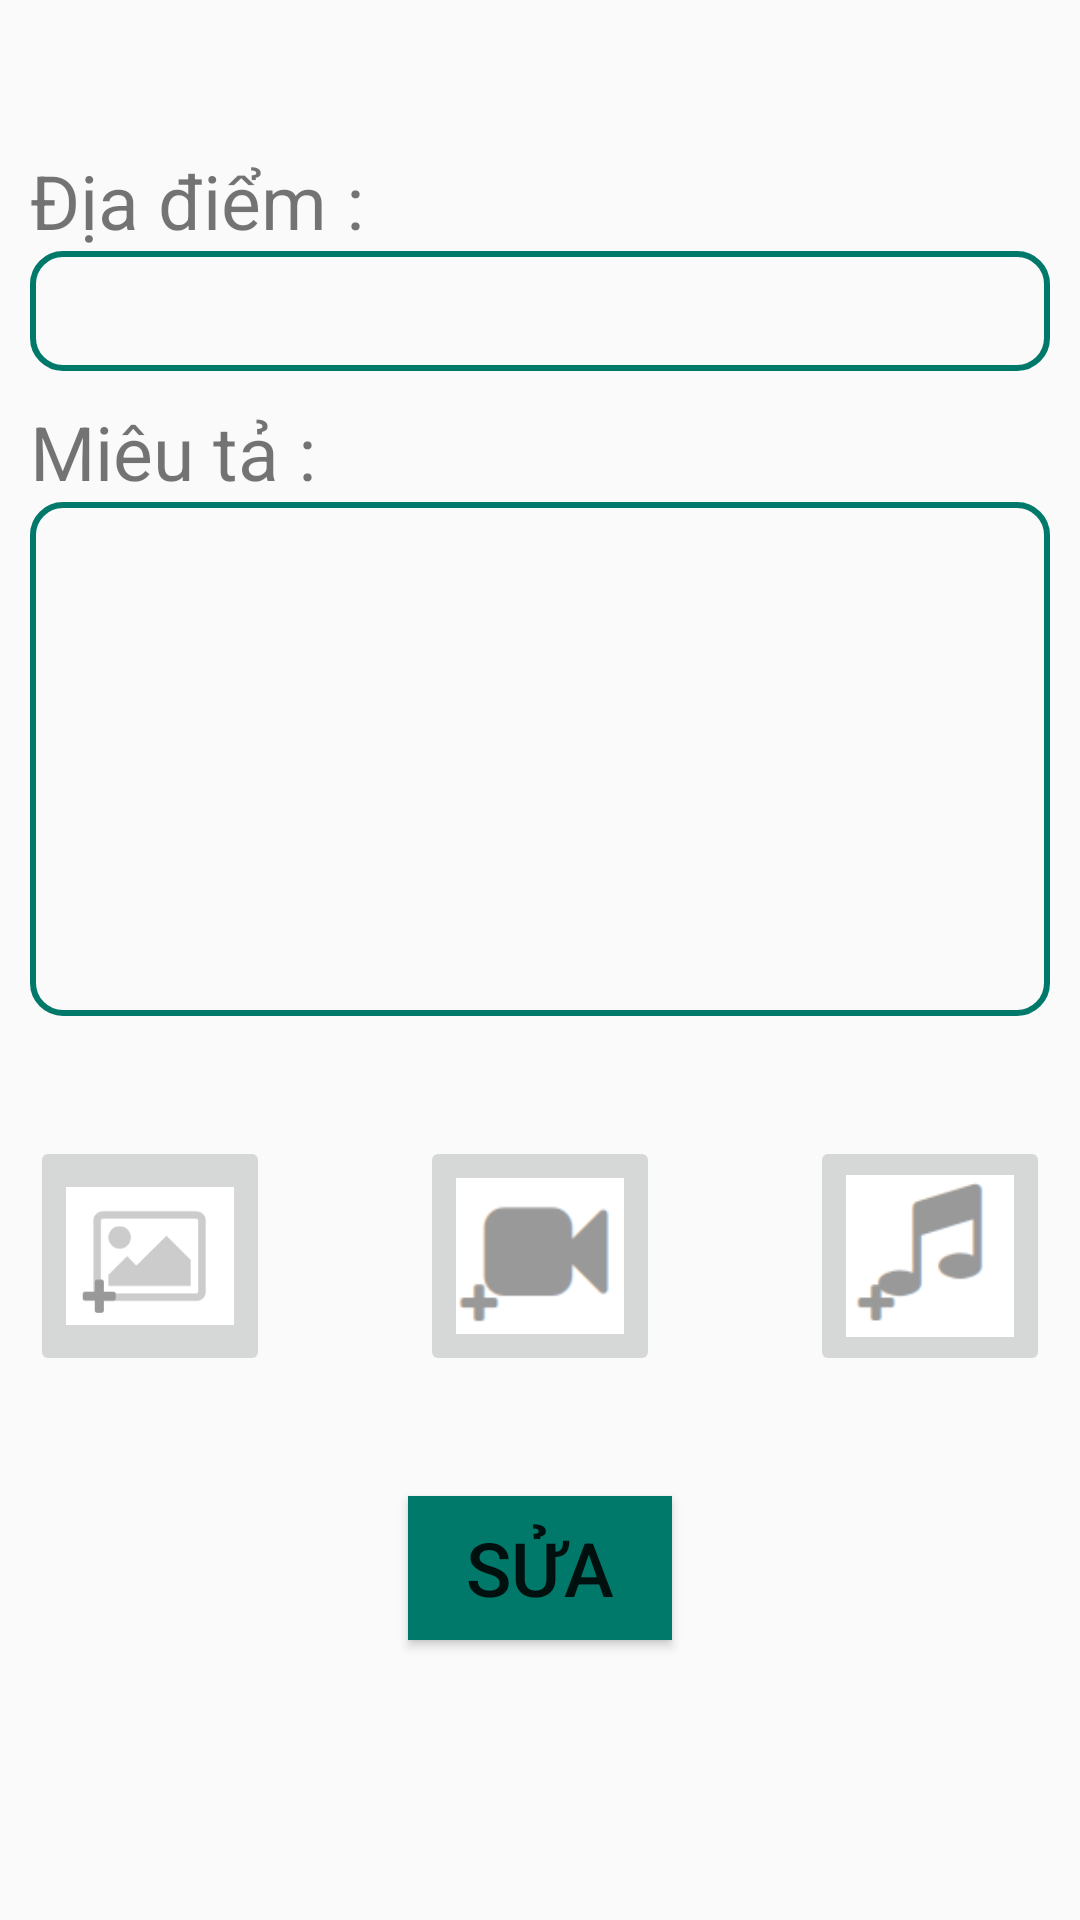

Named icons in this screenshot (1080px×1920px) and their bounding boxes, region(x1, y1, x2, y2):
activity add diary mp: region(822, 1154, 1038, 1358)
activity add diary video: region(432, 1154, 648, 1358)
